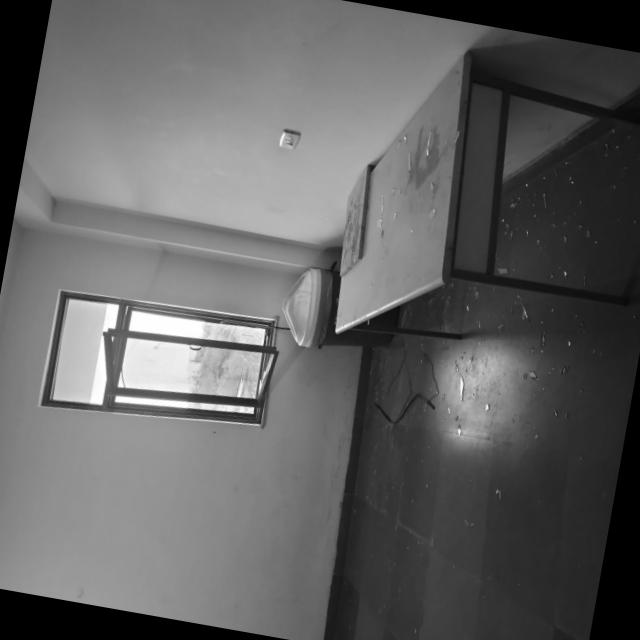Others: (317, 38, 640, 381), (276, 258, 408, 360)
